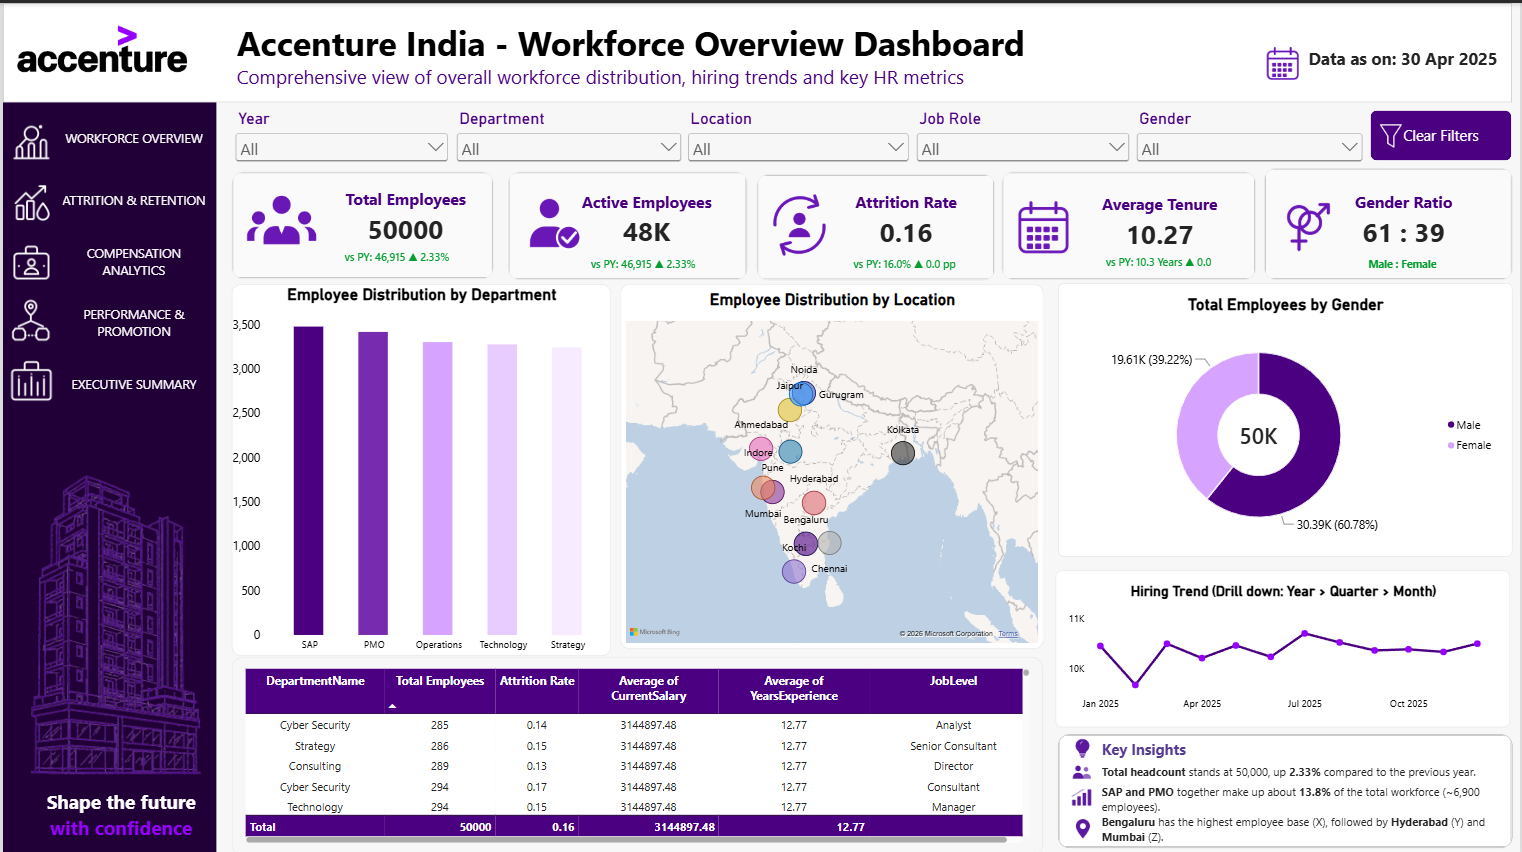

This screenshot's page, from the dashboard's own definition file:
{"tool":"powerbi","page":{"name":"WORKFORCE OVERVIEW","canvas":[1920,1080],"ordinal":0},"visuals":[{"type":"shape","box":[0,26,270,1054],"z":0},{"type":"shape","box":[0,0,1909.3,125.9],"z":1000},{"type":"image","box":[300,180,94,190],"z":2000},{"type":"image","box":[0,511.4,285.2,540],"z":2000,"group":"g3"},{"type":"image","box":[11.9,10.2,225.7,104.1],"z":3000,"group":"g2"},{"type":"slicer","fields":{"Values":["DimDate.Year"]},"box":[290,135,278.8,78.8],"z":3000},{"type":"textbox","box":[295.5,21.6,1614.1,105.5],"z":4000,"group":"g2"},{"type":"slicer","fields":{"Values":["DimJobLevel.JobLevel"]},"box":[1151.2,135,278.8,78.8],"z":4000},{"type":"slicer","fields":{"Values":["DimLocation.City"]},"box":[862.5,135,288.8,91.2],"z":5000},{"type":"textbox","box":[1631.9,56.8,278.3,38.3],"z":6000,"group":"g2"},{"type":"slicer","fields":{"Values":["DimEmployee.Gender"]},"box":[1430,135,295,78.8],"z":6000},{"type":"slicer","fields":{"Values":["DimDepartment.DepartmentName"]},"box":[568.8,135,293.8,78.8],"z":7000},{"type":"textbox","box":[32.8,995,232.7,85],"z":7000,"group":"g3"},{"type":"image","box":[0,126.7,71.7,100],"z":8000,"group":"g1"},{"type":"shape","box":[290,214.3,331.4,135.7],"z":8000},{"type":"image","box":[1.7,213.4,71.7,76.7],"z":9000,"group":"g1"},{"type":"shape","box":[638.6,214.3,302.9,137.1],"z":9000},{"type":"shape","box":[954.3,217.1,301.4,134.3],"z":10000},{"type":"image","box":[0,290,71.7,75],"z":10000,"group":"g1"},{"type":"shape","box":[1264.3,212.9,321.4,137.1],"z":11000},{"type":"image","box":[0,365,70,73.3],"z":11000,"group":"g1"},{"type":"image","box":[300,201.7,104.3,150],"z":12000},{"type":"image","box":[0,435,71.7,85],"z":12000,"group":"g1"},{"type":"image","box":[948.6,232.9,117.1,97.1],"z":13000},{"type":"pageNavigator","box":[62,136,208,386],"z":14000,"group":"g1"},{"type":"image","box":[654.3,232.9,87.1,94.3],"z":14000},{"type":"shape","box":[1595.7,208.6,314.3,141.4],"z":15000},{"type":"image","box":[1264.3,240,105.7,88.6],"z":16000},{"type":"image","box":[1595.7,237.1,105.7,88.6],"z":17000},{"type":"group","id":"g1","title":"Group 1","box":[0,126.7,270,395.3],"z":18000},{"type":"group","id":"g2","title":"Group 2","box":[11.9,10.2,1898.3,116.9],"z":19000},{"type":"shape","box":[1335,925,575,143.8],"z":20000},{"type":"cardVisual","fields":{"Data":["DimDate.Attrition Rate"]},"box":[1050,234.4,185,83.3],"z":20006,"group":"g3"},{"type":"group","id":"g3","title":"Group 3","box":[0,234.4,1235,845.6],"z":21000},{"type":"cardVisual","fields":{"Data":["DimDate.Total Employees"]},"box":[395,208.3,228.3,126.7],"z":22000},{"type":"cardVisual","fields":{"Data":["DimDate.Active Employees"]},"box":[715,238.3,199.3,71.2],"z":23000},{"type":"cardVisual","fields":{"Data":["DimDate.Active vs PY Combined"]},"box":[728.3,313.3,173.3,33.3],"z":24000},{"type":"columnChart","title":"Employee Distribution by Department","fields":{"Category":["DimDepartment.DepartmentName"],"Y":["CountNonNull(DimEmployee.EmployeeID)"]},"box":[290,356,480,470],"z":25000},{"type":"donutChart","fields":{"Category":["DimEmployee.Gender"],"Y":["DimDate.Total Employees"]},"box":[1335,355,575,346.7],"z":26000},{"type":"lineChart","title":"Hiring Trend (Drill down: Year > Quarter > Month)","fields":{"Category":["DimDate.Date.Variation.Date Hierarchy.Year","DimDate.Date.Variation.Date Hierarchy.Quarter","DimDate.Date.Variation.Date Hierarchy.Month"],"Y":["DimDate.New Hires"]},"box":[1331.5,718,575,198.3],"z":27000},{"type":"tableEx","fields":{"Values":["DimDepartment.DepartmentName","DimDate.Total Employees","DimDate.Attrition Rate","Avg(FactWorkforce.CurrentSalary)","Avg(FactWorkforce.YearsExperience)","DimJobLevel.JobLevel"]},"box":[290,826.7,1026.7,253.3],"z":28000},{"type":"map","title":"Employee Distribution by Location","fields":{"Category":["DimLocation.City"],"Size":["DimDate.Total Employees"]},"box":[781.7,356.7,535,461.7],"z":29000},{"type":"image","box":[1576.6,48.5,84.5,55.7],"z":30000},{"type":"cardVisual","fields":{"Data":["DimDate.PY Comparison Label"]},"box":[416.7,280,317.7,81.2],"z":31000},{"type":"cardVisual","fields":{"Data":["DimDate.Attrition vs PY Text kpi 3"]},"box":[1060,291.7,164.2,77.6],"z":32000},{"type":"cardVisual","fields":{"Data":["DimDate.Average Tenure"]},"box":[1370,236.7,188.3,80],"z":33000},{"type":"cardVisual","fields":{"Data":["DimDate.Average Tenure vs PY Text"]},"box":[1380,313.3,170,28.3],"z":34000},{"type":"cardVisual","fields":{"Data":["DimDate.Gender Ratio"]},"box":[1661.7,236.7,220,76.7],"z":35000},{"type":"cardVisual","fields":{"Data":["DimDate.Gender Ratio Label"]},"box":[1711.7,303.3,121.7,53.3],"z":36000},{"type":"image","box":[1736.3,154.7,41.1,29.5],"z":37000},{"type":"actionButton","box":[1730.8,135.8,178.3,63.3],"z":38000},{"type":"image","box":[1736,154,41.1,29.5],"z":39000},{"type":"textbox","box":[1391,964,518,25],"z":40000},{"type":"textbox","box":[1391,989,519,37],"z":41000},{"type":"textbox","box":[1391,1026,519,40],"z":42000},{"type":"image","box":[1350,960,32.5,28.8],"z":43000},{"type":"image","box":[1350,989,32,33],"z":44000},{"type":"image","box":[1344,1029,43.8,31.2],"z":45000},{"type":"textbox","box":[1390,931,228.8,28.8],"z":46000},{"type":"image","box":[1352.5,925,27.5,35],"z":47000}]}

Visuals, with their boxes in screenshot pixels (x1, y1, x2, y2), scaled from the page's 1920x1080 canvas onto the 1522x852 screenshot:
shape: left=0, top=21, right=214, bottom=851
shape: left=0, top=0, right=1514, bottom=99
image: left=238, top=142, right=312, bottom=292
image: left=0, top=403, right=226, bottom=829
image: left=9, top=8, right=188, bottom=90
slicer - DimDate.Year: left=230, top=106, right=451, bottom=169
textbox: left=234, top=17, right=1514, bottom=100
slicer - DimJobLevel.JobLevel: left=913, top=106, right=1134, bottom=169
slicer - DimLocation.City: left=684, top=106, right=913, bottom=178
textbox: left=1294, top=45, right=1514, bottom=75
slicer - DimEmployee.Gender: left=1134, top=106, right=1367, bottom=169
slicer - DimDepartment.DepartmentName: left=451, top=106, right=684, bottom=169
textbox: left=26, top=785, right=210, bottom=851
image: left=0, top=100, right=57, bottom=179
shape: left=230, top=169, right=493, bottom=276
image: left=1, top=168, right=58, bottom=229
shape: left=506, top=169, right=746, bottom=277
shape: left=756, top=171, right=995, bottom=277
image: left=0, top=229, right=57, bottom=288
shape: left=1002, top=168, right=1257, bottom=276
image: left=0, top=288, right=55, bottom=346
image: left=238, top=159, right=320, bottom=277
image: left=0, top=343, right=57, bottom=410
image: left=752, top=184, right=845, bottom=260
pageNavigator: left=49, top=107, right=214, bottom=412
image: left=519, top=184, right=588, bottom=258
shape: left=1265, top=165, right=1514, bottom=276
image: left=1002, top=189, right=1086, bottom=259
image: left=1265, top=187, right=1349, bottom=257
"Group 1" group: left=0, top=100, right=214, bottom=412
"Group 2" group: left=9, top=8, right=1514, bottom=100
shape: left=1058, top=730, right=1514, bottom=843
cardVisual - DimDate.Attrition Rate: left=832, top=185, right=979, bottom=251
"Group 3" group: left=0, top=185, right=979, bottom=851
cardVisual - DimDate.Total Employees: left=313, top=164, right=494, bottom=264
cardVisual - DimDate.Active Employees: left=567, top=188, right=725, bottom=244
cardVisual - DimDate.Active vs PY Combined: left=577, top=247, right=715, bottom=273
"Employee Distribution by Department" columnChart: left=230, top=281, right=610, bottom=652
donutChart - DimEmployee.Gender x DimDate.Total Employees: left=1058, top=280, right=1514, bottom=554
"Hiring Trend (Drill down: Year > Quarter > Month)" lineChart: left=1055, top=566, right=1511, bottom=723
tableEx - DimDepartment.DepartmentName x DimDate.Total Employees: left=230, top=652, right=1044, bottom=851
"Employee Distribution by Location" map: left=620, top=281, right=1044, bottom=646
image: left=1250, top=38, right=1317, bottom=82
cardVisual - DimDate.PY Comparison Label: left=330, top=221, right=582, bottom=285
cardVisual - DimDate.Attrition vs PY Text kpi 3: left=840, top=230, right=970, bottom=291
cardVisual - DimDate.Average Tenure: left=1086, top=187, right=1235, bottom=250
cardVisual - DimDate.Average Tenure vs PY Text: left=1094, top=247, right=1229, bottom=269
cardVisual - DimDate.Gender Ratio: left=1317, top=187, right=1492, bottom=247
cardVisual - DimDate.Gender Ratio Label: left=1357, top=239, right=1453, bottom=281
image: left=1376, top=122, right=1409, bottom=145
actionButton: left=1372, top=107, right=1513, bottom=157
image: left=1376, top=121, right=1409, bottom=145
textbox: left=1103, top=760, right=1513, bottom=780
textbox: left=1103, top=780, right=1514, bottom=809
textbox: left=1103, top=809, right=1514, bottom=841
image: left=1070, top=757, right=1096, bottom=780
image: left=1070, top=780, right=1096, bottom=806
image: left=1065, top=812, right=1100, bottom=836
textbox: left=1102, top=734, right=1283, bottom=757
image: left=1072, top=730, right=1094, bottom=757
